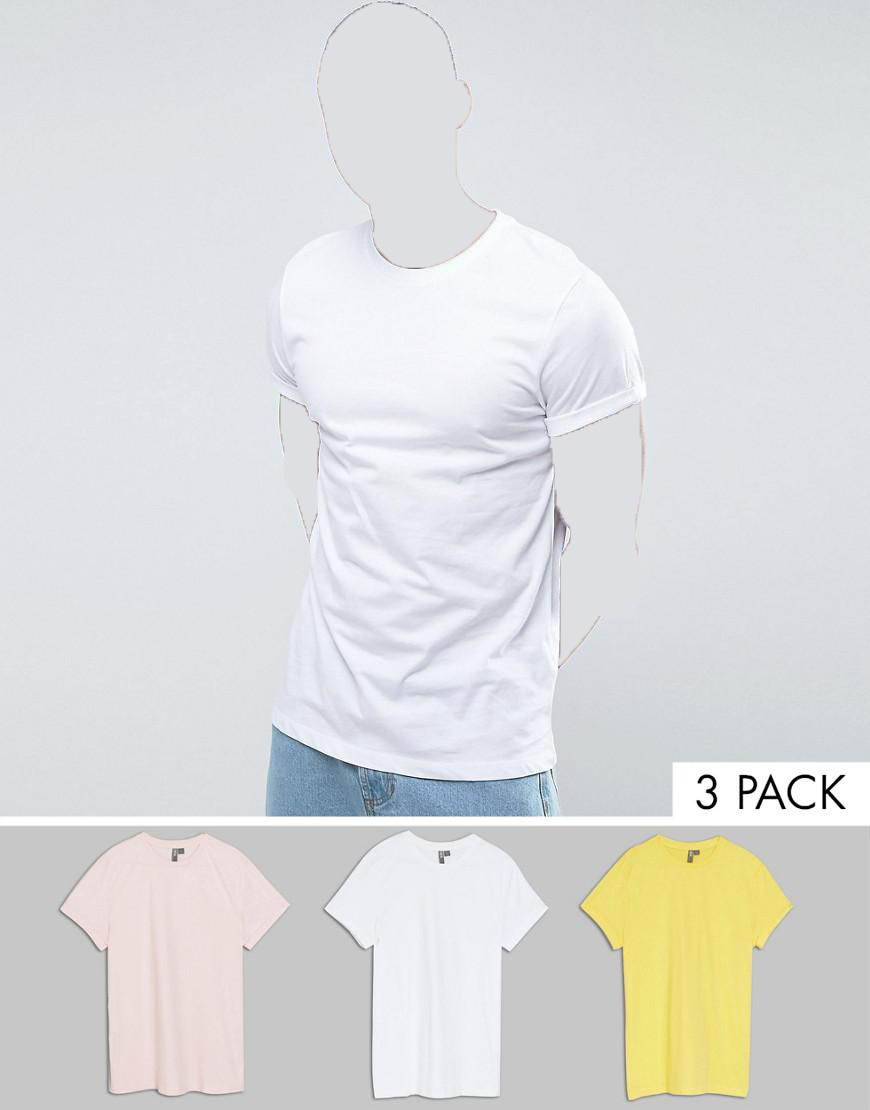teeshirt: (261, 207, 644, 778), (305, 830, 551, 1101), (54, 830, 290, 1101), (573, 827, 796, 1107)
